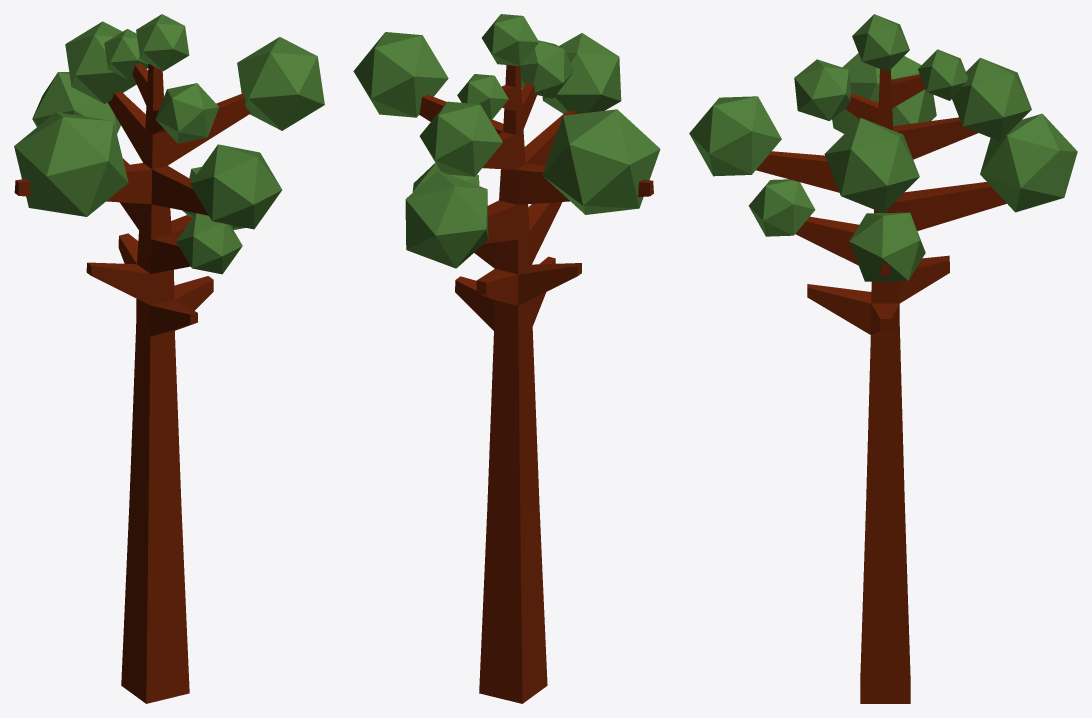
The model's file is forest_tree_2.fbx.
3 views of the same model, side by side, from view 1: azimuth 30°, elevation 25°; view 2: azimuth 150°, elevation 25°; view 3: azimuth 270°, elevation 25° (orthographic).
Visible parts, largest first — view 1: ForestTree2_LOD0; view 2: ForestTree2_LOD0; view 3: ForestTree2_LOD0.
Boxes of the visible parts, <box> form: ForestTree2_LOD0: <box>14,14,324,703</box>; ForestTree2_LOD0: <box>353,14,660,703</box>; ForestTree2_LOD0: <box>689,14,1077,703</box>.
Size of what is drawn, in the model's own units: 686 by 1478 by 769.
